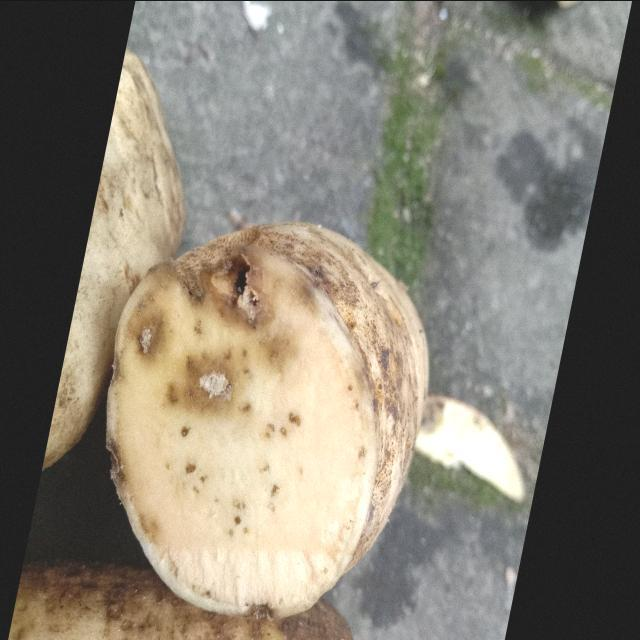Sick Sweet Potato_Tuber Rot: (108, 242, 375, 615)
